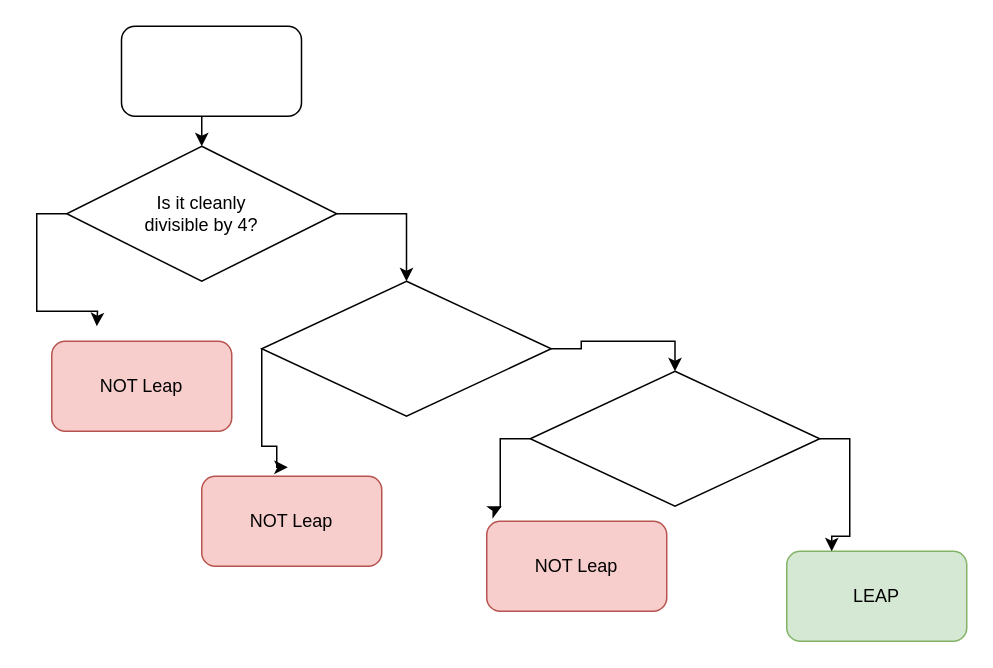
This 993x668 diagram has some shape labels left out. The shapes that lost their labels are listed below. From the top down, each one's box as (x1, y1, x2, y2) in pixels, then its label:
(120, 25, 302, 116): Start
(260, 280, 551, 416): Is it cleanly divisible by 100?
(529, 370, 820, 506): Is it cleanly divisible by 400?
